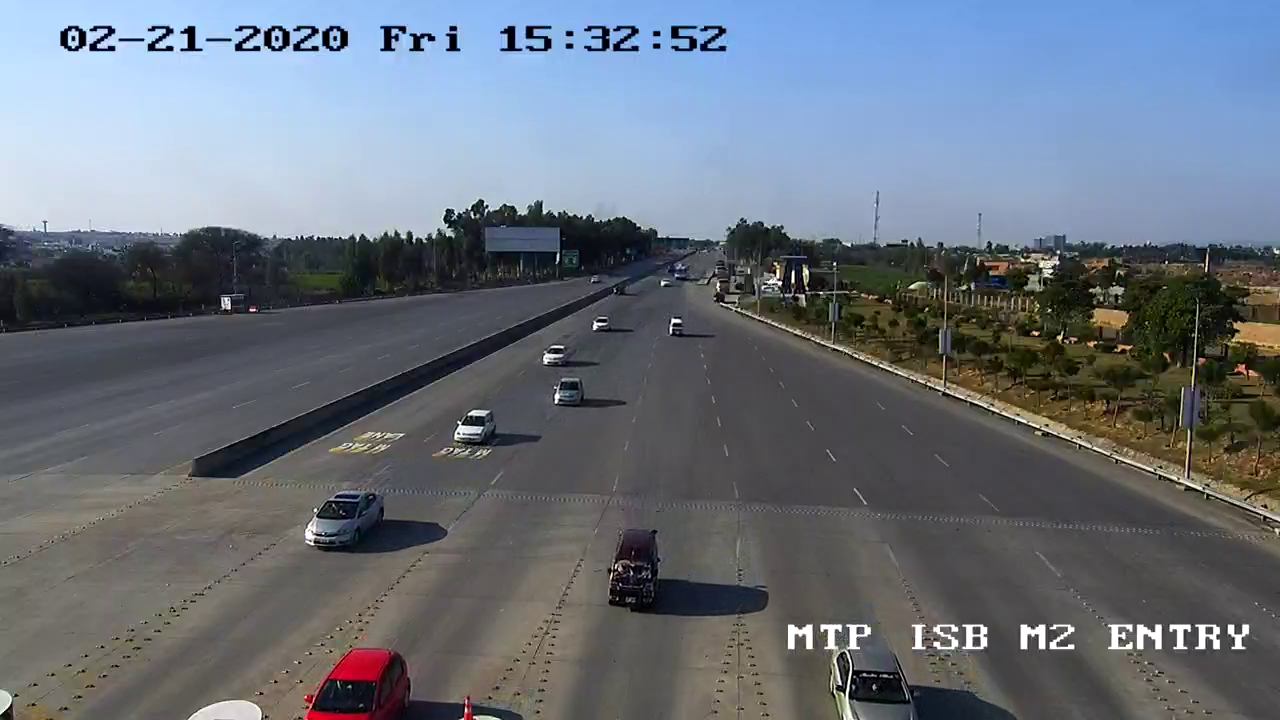f1: (291, 478, 395, 564), (599, 521, 677, 620)
